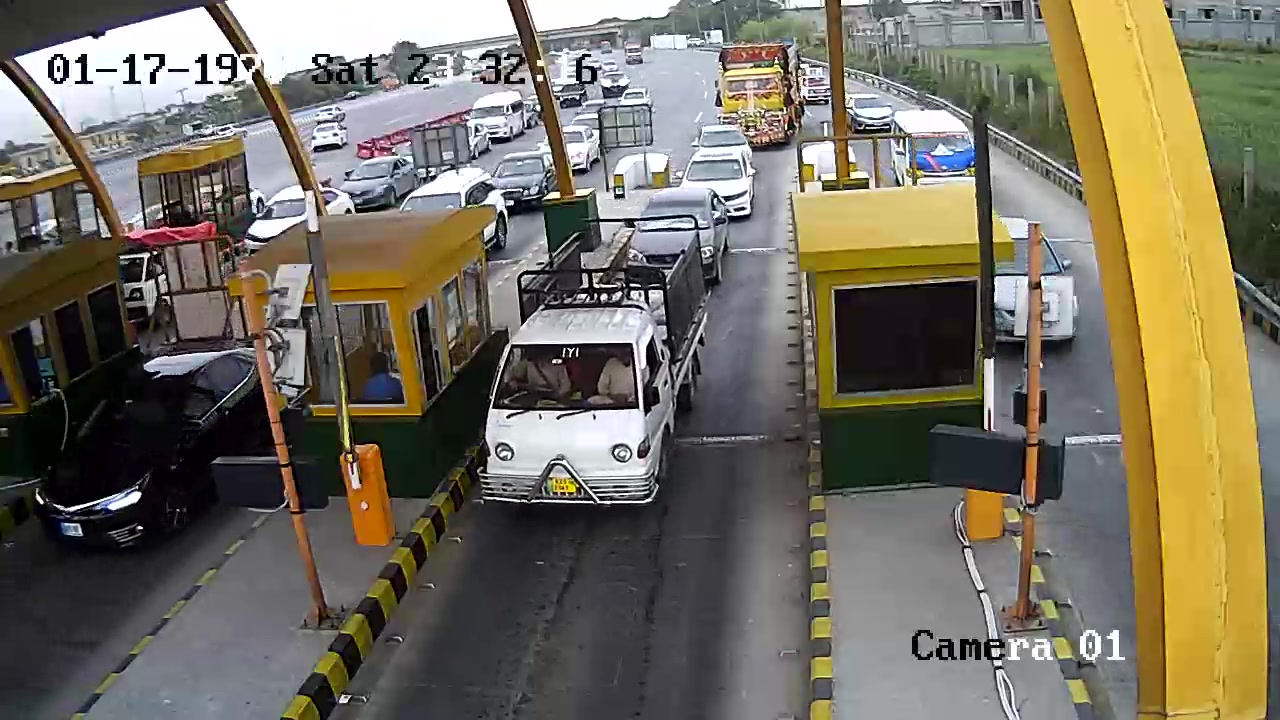F2: (469, 196, 713, 523)
